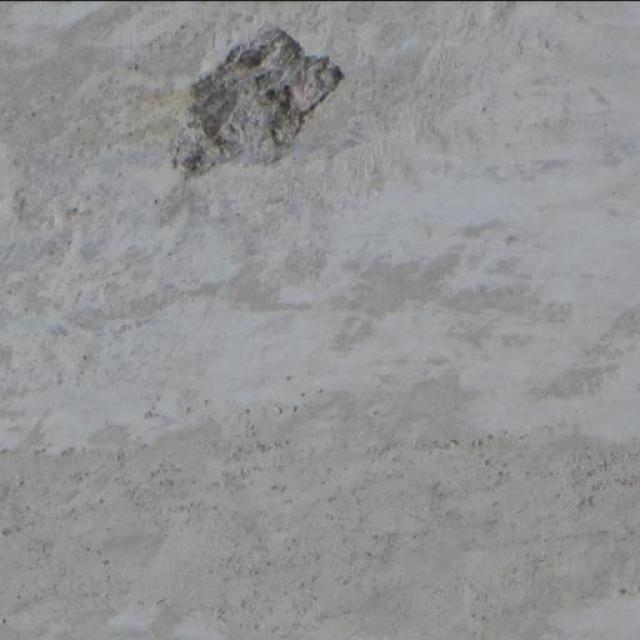D10: (169, 28, 344, 175)
